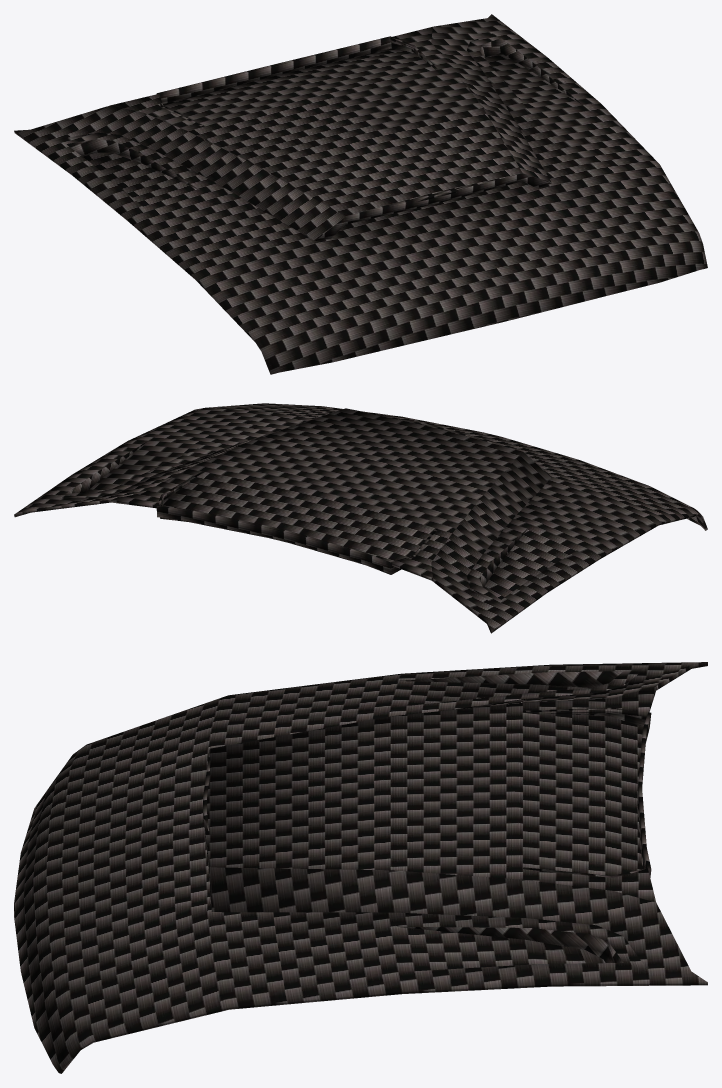
File: Car2CarbonPart.fbx
3 views of the same model, one above another, from view 1: azimuth 30°, elevation 25°; view 2: azimuth 150°, elevation 25°; view 3: azimuth 270°, elevation 25° (orthographic). The views are drawn at different scales.
Visible parts, largest first — view 1: CarbonPart; view 2: CarbonPart; view 3: CarbonPart.
Boxes of the visible parts, left/top/right/bottom form: CarbonPart: left=14, top=14, right=707, bottom=374; CarbonPart: left=14, top=403, right=707, bottom=633; CarbonPart: left=14, top=662, right=707, bottom=1073.
Size of the model in its own units: 1.88 by 0.3909 by 1.72.
1 material, 1 textured.
